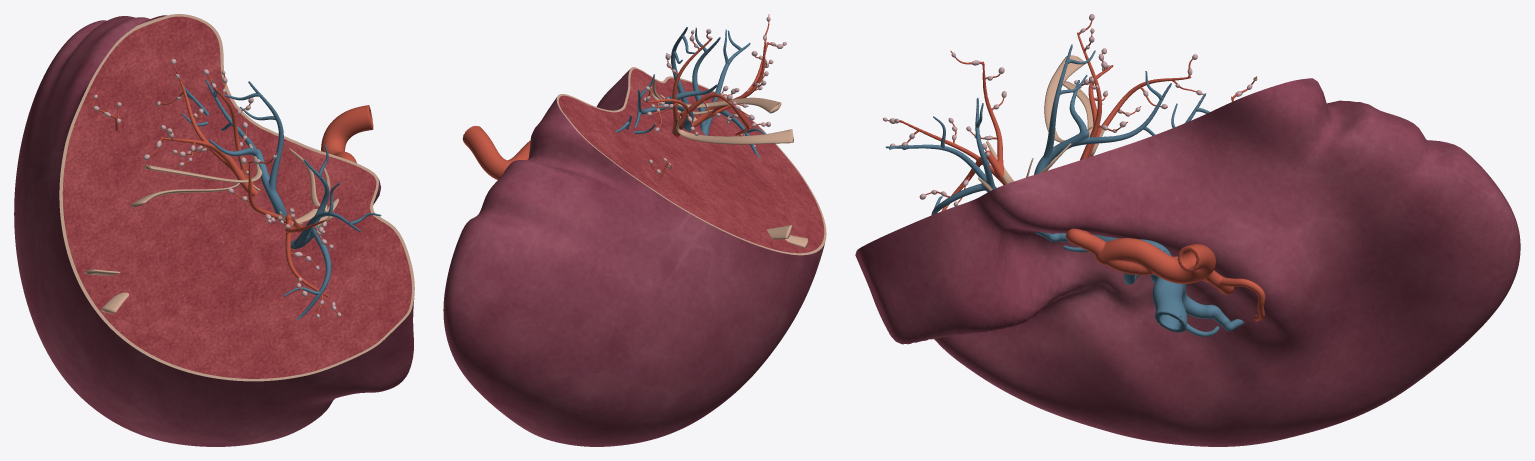
Rendered from dissection.glb.
The picture shows the model from 3 angles, left to right: view 1: azimuth 30°, elevation 25°; view 2: azimuth 150°, elevation 25°; view 3: azimuth 270°, elevation 25°; orthographic projection. The views are drawn at different scales.
Visible parts, largest first — view 1: CutFace_red_pulp.001, Section_Capsule.001, SPL_IN_VEIN, CutFace_capsule.001, SPL_IN_ARTERY, SPL_TRABECULAE, SPL_WHITE_PULP, SPL_HILAR_ARTERY; view 2: Section_Capsule.001, CutFace_red_pulp.001, SPL_IN_VEIN, SPL_TRABECULAE, SPL_IN_ARTERY, SPL_HILAR_ARTERY, CutFace_capsule.001, SPL_WHITE_PULP; view 3: Section_Capsule.001, SPL_HILAR_ARTERY, SPL_IN_VEIN, SPL_IN_ARTERY, SPL_HILAR_VEIN, SPL_TRABECULAE, SPL_WHITE_PULP.
Part boxes in pixels (x1,y1,x2,y2): CutFace_red_pulp.001: [62, 16, 411, 378]; Section_Capsule.001: [14, 15, 414, 446]; SPL_IN_VEIN: [173, 79, 381, 319]; CutFace_capsule.001: [59, 14, 414, 381]; SPL_IN_ARTERY: [91, 64, 339, 316]; SPL_TRABECULAE: [84, 143, 338, 313]; SPL_WHITE_PULP: [93, 59, 341, 318]; SPL_HILAR_ARTERY: [321, 105, 373, 163]; Section_Capsule.001: [443, 69, 824, 446]; CutFace_red_pulp.001: [558, 68, 824, 253]; SPL_IN_VEIN: [611, 27, 765, 158]; SPL_TRABECULAE: [650, 78, 807, 247]; SPL_IN_ARTERY: [642, 14, 786, 179]; SPL_HILAR_ARTERY: [462, 125, 530, 179]; CutFace_capsule.001: [556, 67, 826, 255]; SPL_WHITE_PULP: [643, 16, 786, 173]; Section_Capsule.001: [855, 78, 1520, 446]; SPL_HILAR_ARTERY: [1066, 228, 1265, 321]; SPL_IN_VEIN: [886, 44, 1209, 215]; SPL_IN_ARTERY: [882, 20, 1256, 211]; SPL_HILAR_VEIN: [1036, 231, 1244, 336]; SPL_TRABECULAE: [978, 55, 1104, 190]; SPL_WHITE_PULP: [883, 14, 1257, 206].
Bounding box in the file's own units: 0.0616 × 0.0724 × 0.1059.
7 materials, 2 textured.
